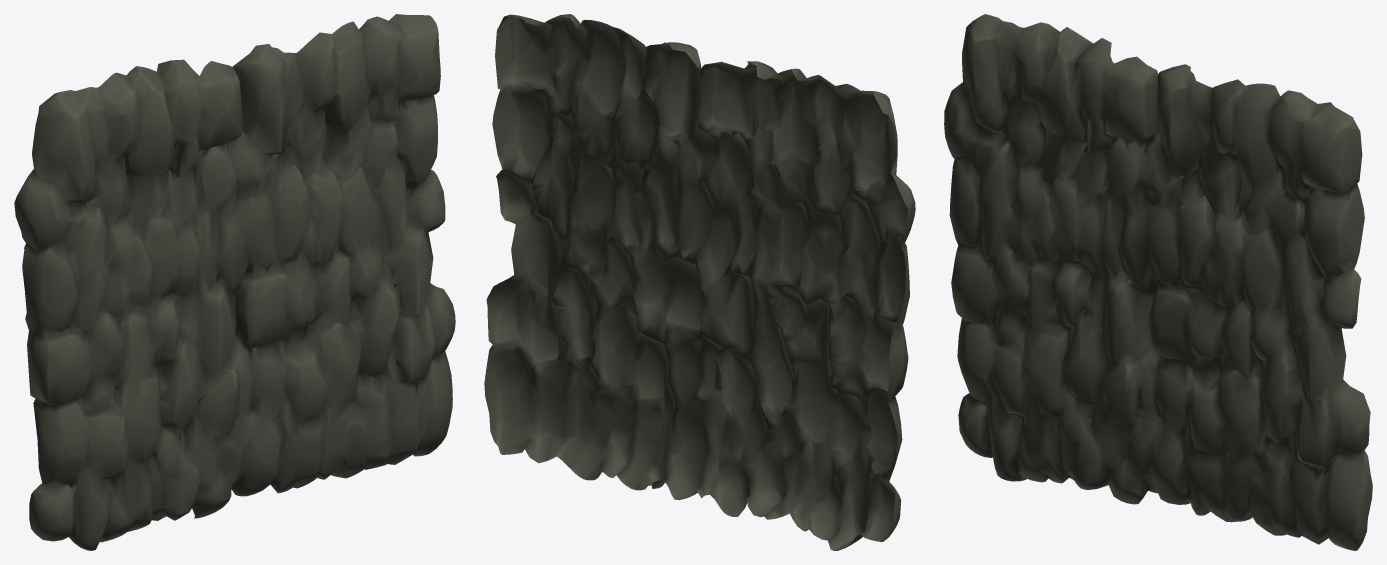
File: halfWallChunk_b.fbx
3 renders of one model, left to right at view 1: azimuth 30°, elevation 25°; view 2: azimuth 150°, elevation 25°; view 3: azimuth 330°, elevation 25°, orthographic.
Visible parts, largest first — view 1: wall_b_straight; view 2: wall_b_straight; view 3: wall_b_straight.
Boxes of the visible parts, x1=… form: wall_b_straight: x1=14, y1=14, x2=455, y2=550; wall_b_straight: x1=484, y1=14, x2=915, y2=550; wall_b_straight: x1=944, y1=14, x2=1372, y2=550.
Bounding box in the file's own units: 1714 × 1786 × 202.
Materials: 1 (1 with a texture image).
